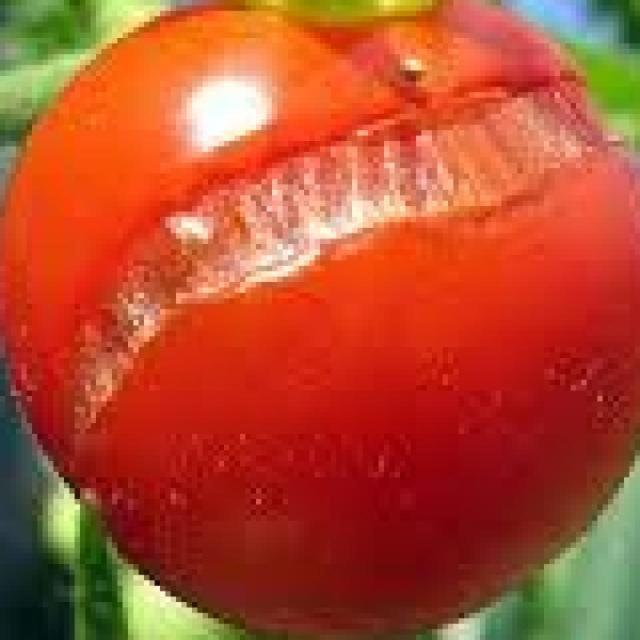Cracking Fruit: (16, 42, 417, 302)
